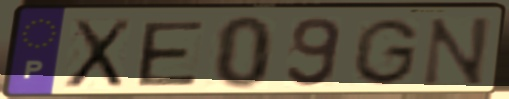0: (207, 14, 278, 92)
9: (284, 16, 343, 90)
E: (136, 19, 207, 89)
G: (348, 16, 422, 88)
N: (418, 14, 494, 88)
X: (61, 16, 136, 92)
